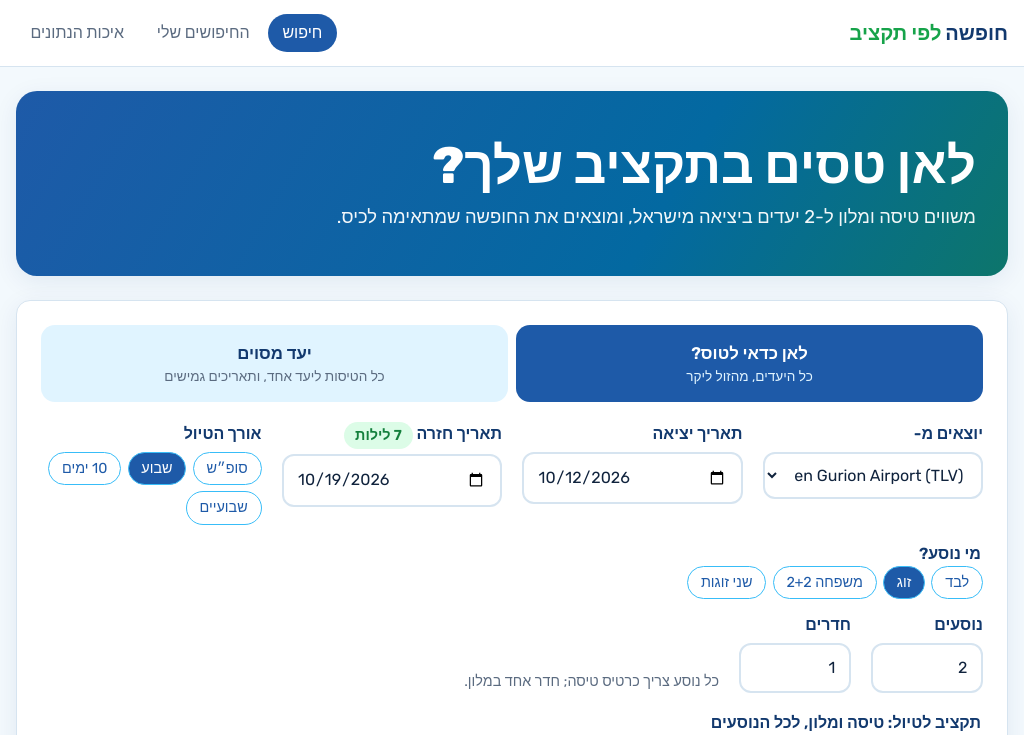
Test case: trip-length chips set the return date, and moving the departure keeps the length
Expected: the date field labelled "תאריך יציאה" is shown, [522, 452, 742, 504]
Click the button "שבועיים": click(224, 508) [186, 491, 262, 525]
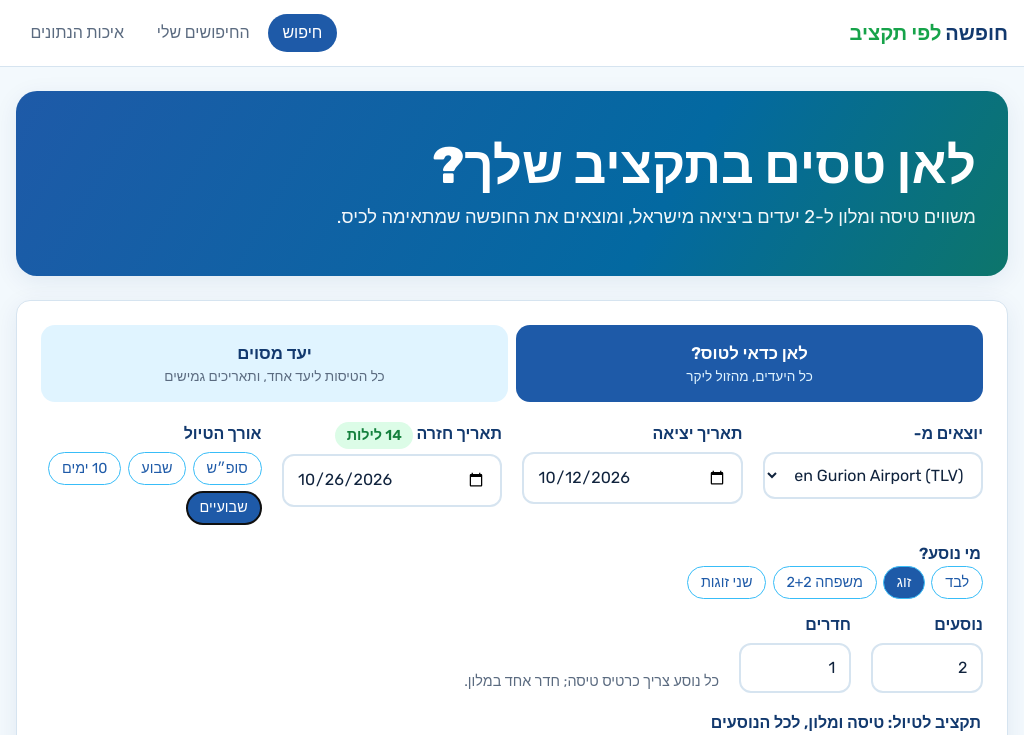
Result: the date field labelled "תאריך חזרה 14 לילות" holds "2026-10-26" at [282, 454, 502, 507]
Result: the text "14 לילות" is shown at [335, 422, 413, 449]
In the date field labelled "תאריך יציאה": (632, 478) [522, 452, 742, 504], type "2026-11-07"
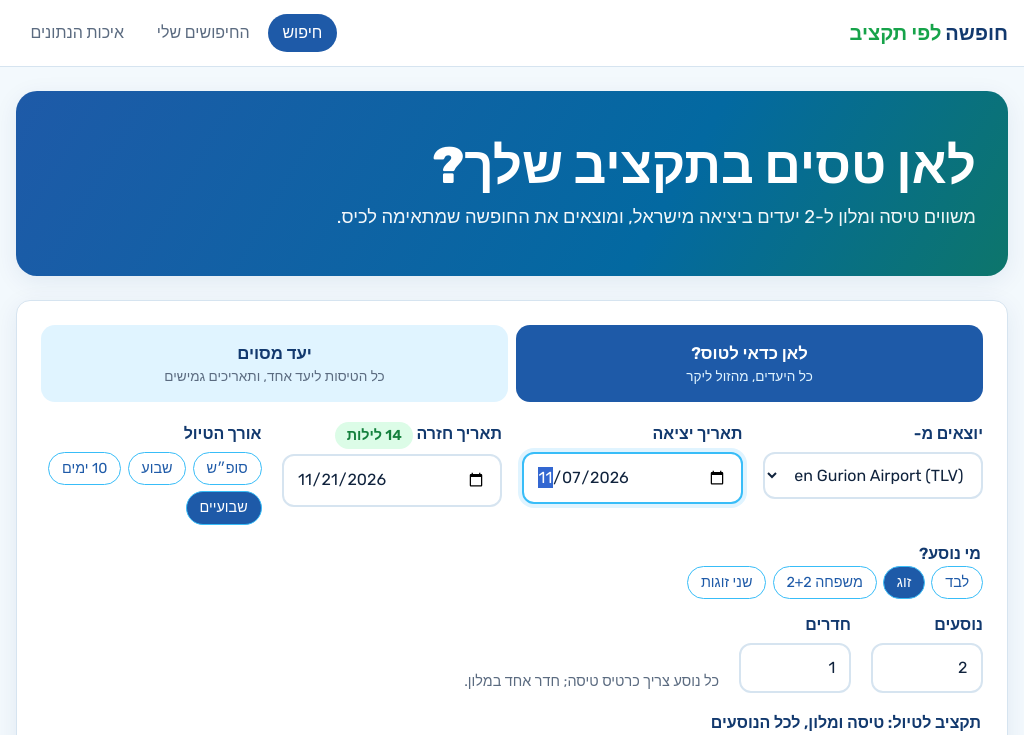
Result: the date field labelled "תאריך חזרה 14 לילות" holds "2026-11-21" at [282, 454, 502, 507]
